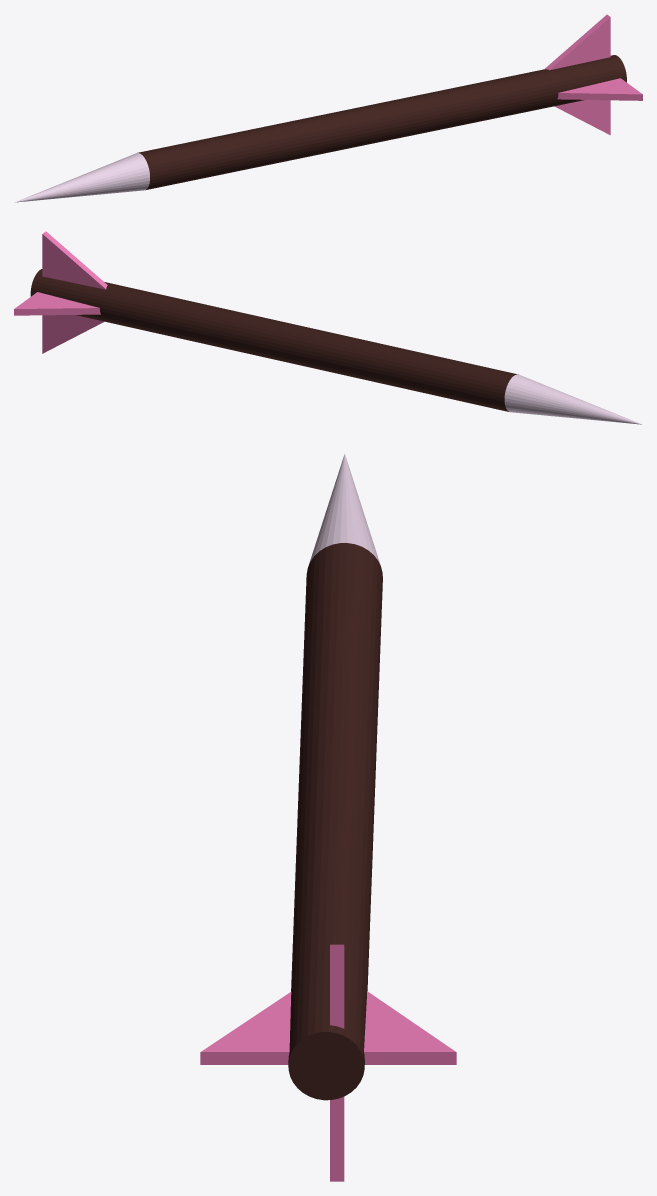
File: arrow.glb
3 views of the same model, one above another, from view 1: azimuth 30°, elevation 25°; view 2: azimuth 150°, elevation 25°; view 3: azimuth 270°, elevation 25° (orthographic). The views are drawn at different scales.
Parts seen in each view (by area): view 1: Cone, Cone.001, Cube.001, Cube; view 2: Cone, Cube.001, Cone.001, Cube; view 3: Cone, Cube, Cone.001, Cube.001.
Part boxes in pixels (x1,y1,x2,y2): Cone: (137, 55, 626, 190); Cone.001: (14, 153, 149, 202); Cube.001: (544, 14, 610, 135); Cube: (557, 78, 642, 100); Cone: (30, 269, 518, 411); Cube.001: (42, 231, 107, 353); Cone.001: (504, 374, 641, 424); Cube: (14, 292, 100, 315); Cone: (288, 543, 382, 1100); Cube: (200, 991, 456, 1064); Cone.001: (308, 454, 380, 565); Cube.001: (330, 944, 344, 1181).
Size of the model in its own units: 9.46 by 1.79 by 1.75.
